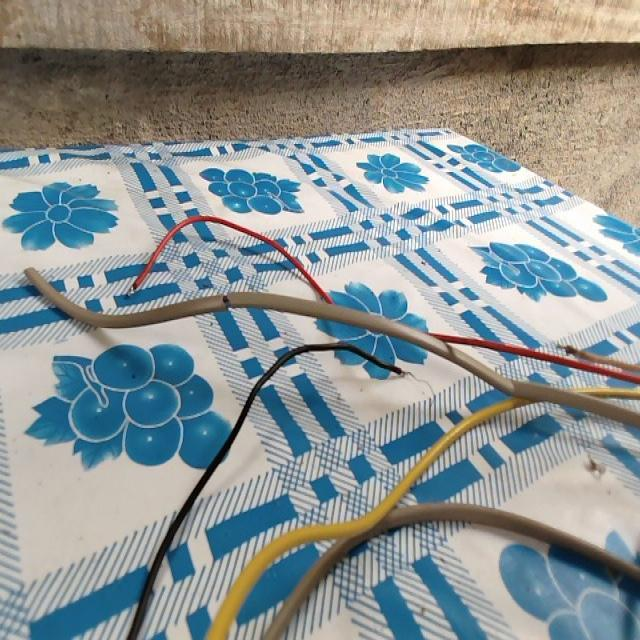-: (217, 290, 237, 310), (554, 339, 574, 356), (396, 363, 414, 381), (126, 280, 138, 296)
